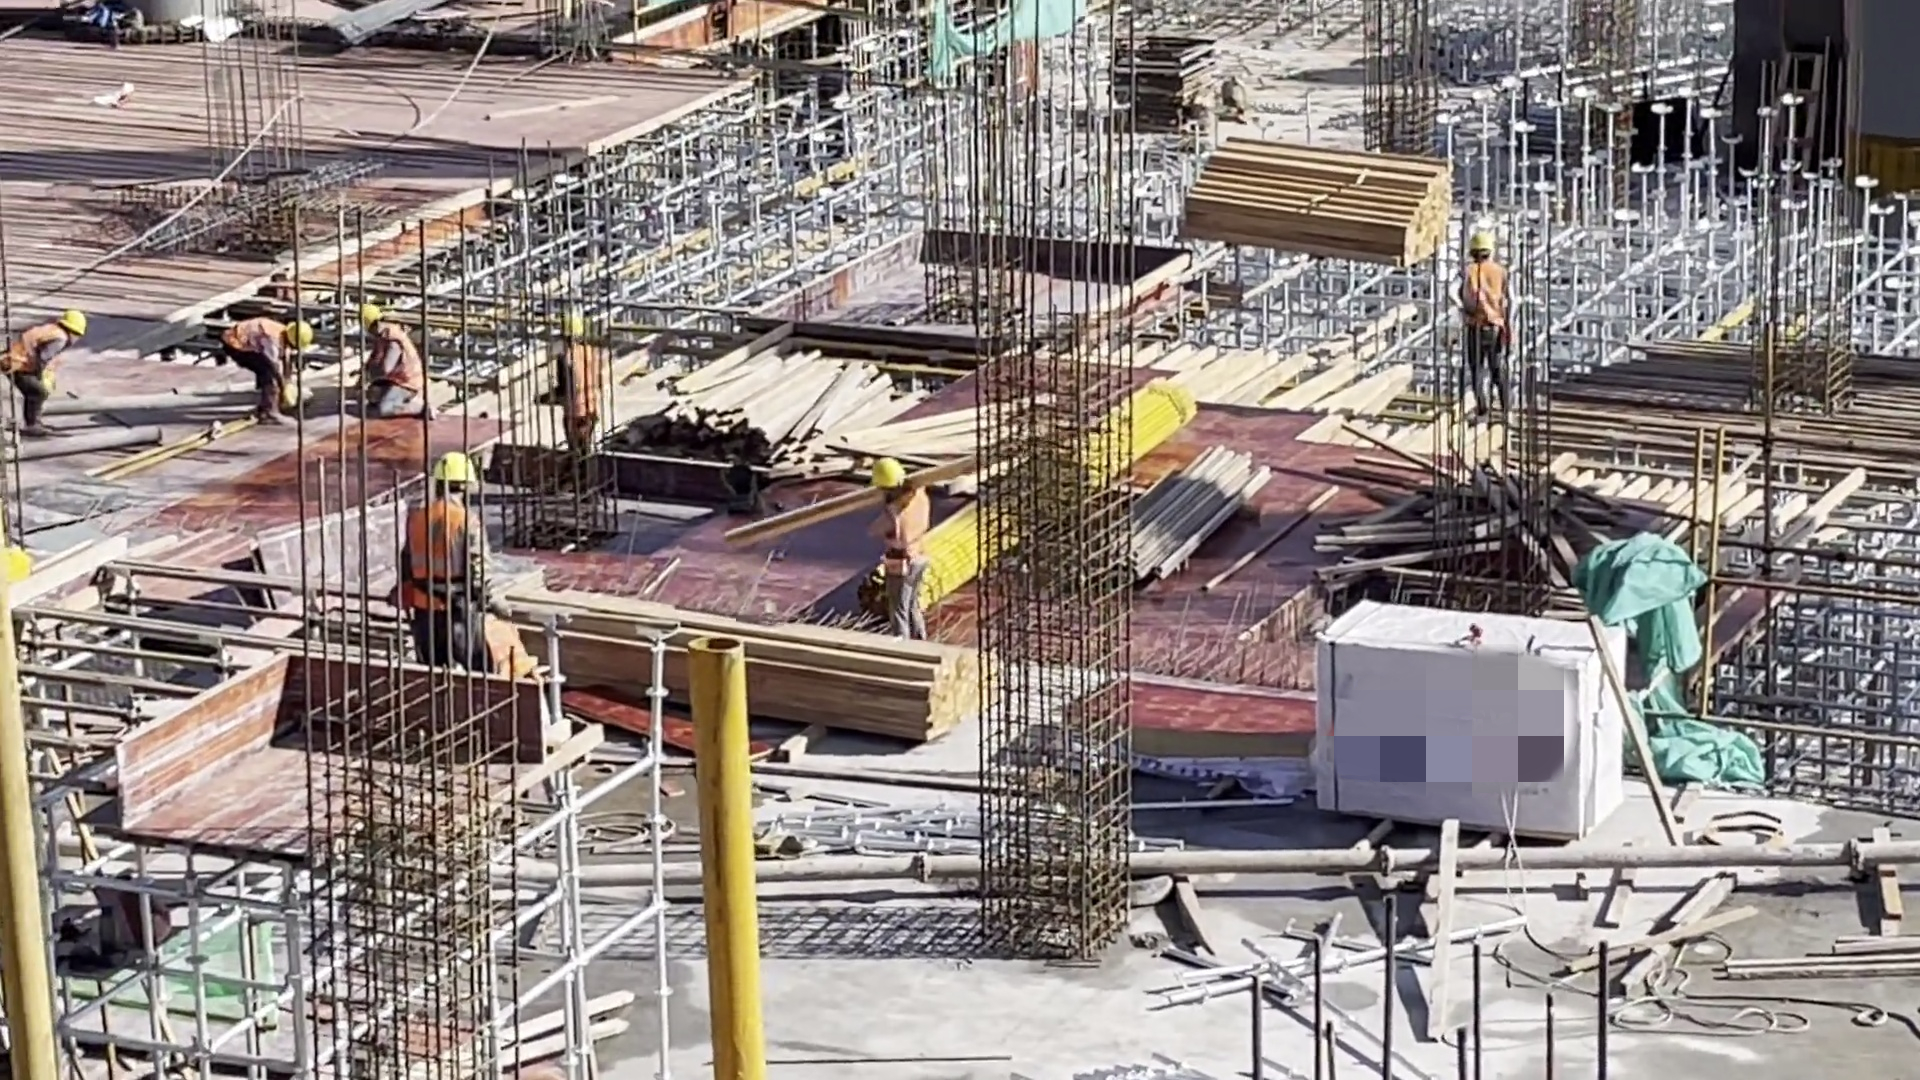helmet: (425, 448, 501, 515), (865, 443, 914, 502), (1473, 220, 1512, 269), (354, 293, 389, 339), (58, 295, 91, 342), (552, 307, 581, 344), (294, 318, 318, 351)
person: (399, 445, 510, 669), (1445, 235, 1529, 421), (860, 450, 936, 638), (543, 300, 615, 501), (5, 284, 100, 428), (211, 291, 323, 411), (346, 306, 435, 417)
rebar: (1556, 324, 1920, 481)
vest: (404, 501, 484, 605), (876, 487, 925, 588), (554, 341, 601, 426), (352, 332, 421, 386), (13, 320, 72, 381), (1466, 269, 1516, 338), (226, 315, 289, 357)
wood: (571, 355, 909, 467), (1184, 129, 1430, 251)
